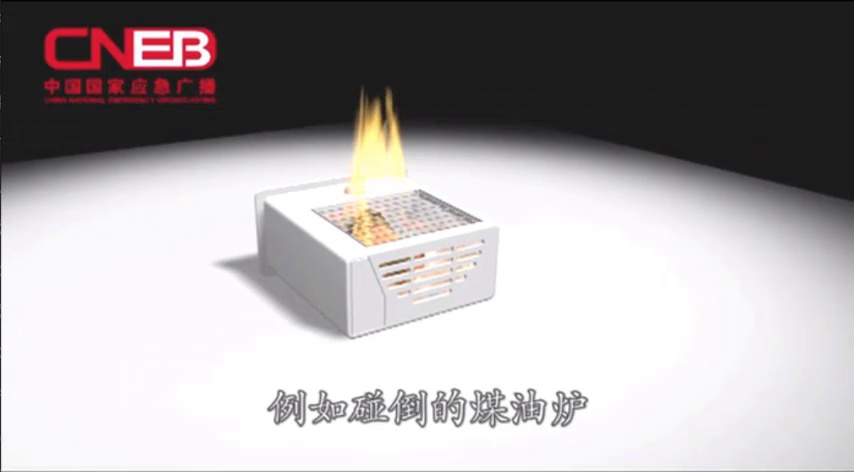fire: (338, 84, 419, 249)
